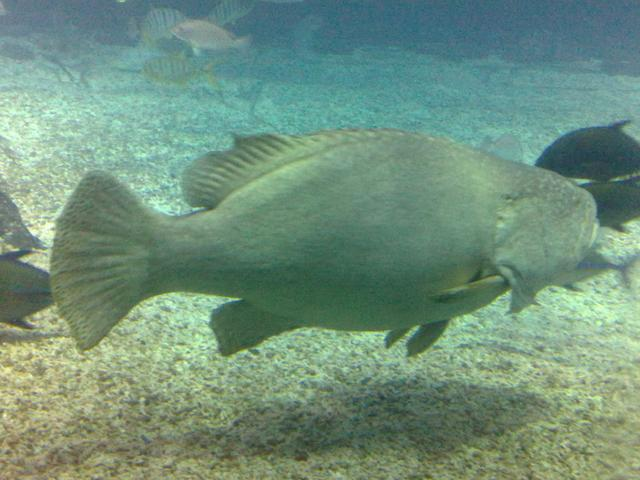fish: (19, 75, 633, 454)
